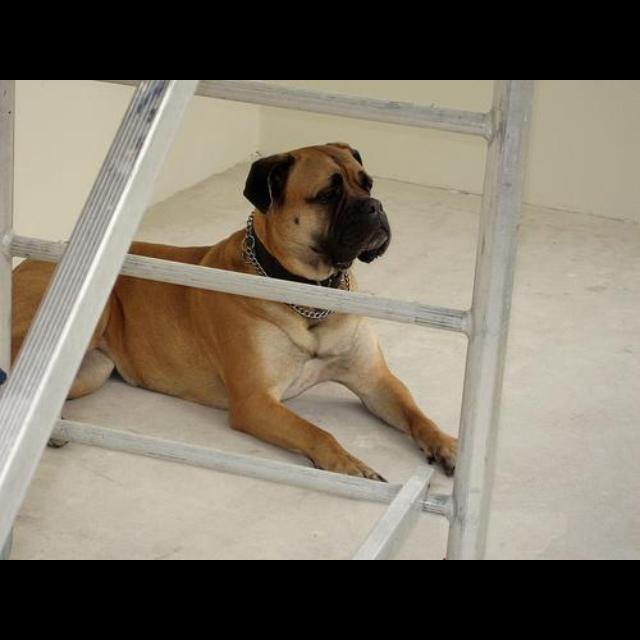bullmastiff: (2, 142, 461, 485)
